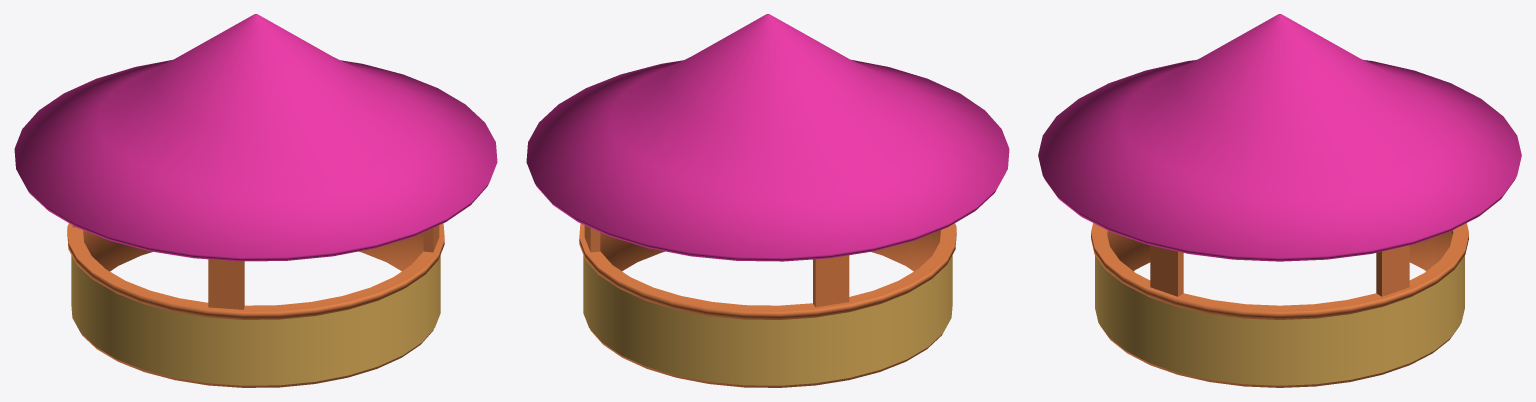
Rendered from HookerDuckBooth.fbx.
The picture shows the model from 3 angles, left to right: view 1: azimuth 30°, elevation 25°; view 2: azimuth 150°, elevation 25°; view 3: azimuth 270°, elevation 25°; orthographic projection.
Parts seen in each view (by area): view 1: Tent, Banner, Base; view 2: Tent, Banner, Base; view 3: Tent, Banner, Base.
Part boxes in pixels (x1,y1,x2,y2): Tent: [14, 14, 497, 261]; Banner: [71, 255, 440, 385]; Base: [67, 223, 444, 387]; Tent: [526, 14, 1009, 261]; Banner: [583, 255, 952, 385]; Base: [579, 223, 956, 387]; Tent: [1038, 14, 1521, 261]; Banner: [1095, 255, 1464, 385]; Base: [1091, 223, 1468, 387].
Bounding box in the file's own units: 902 × 607 × 902.
